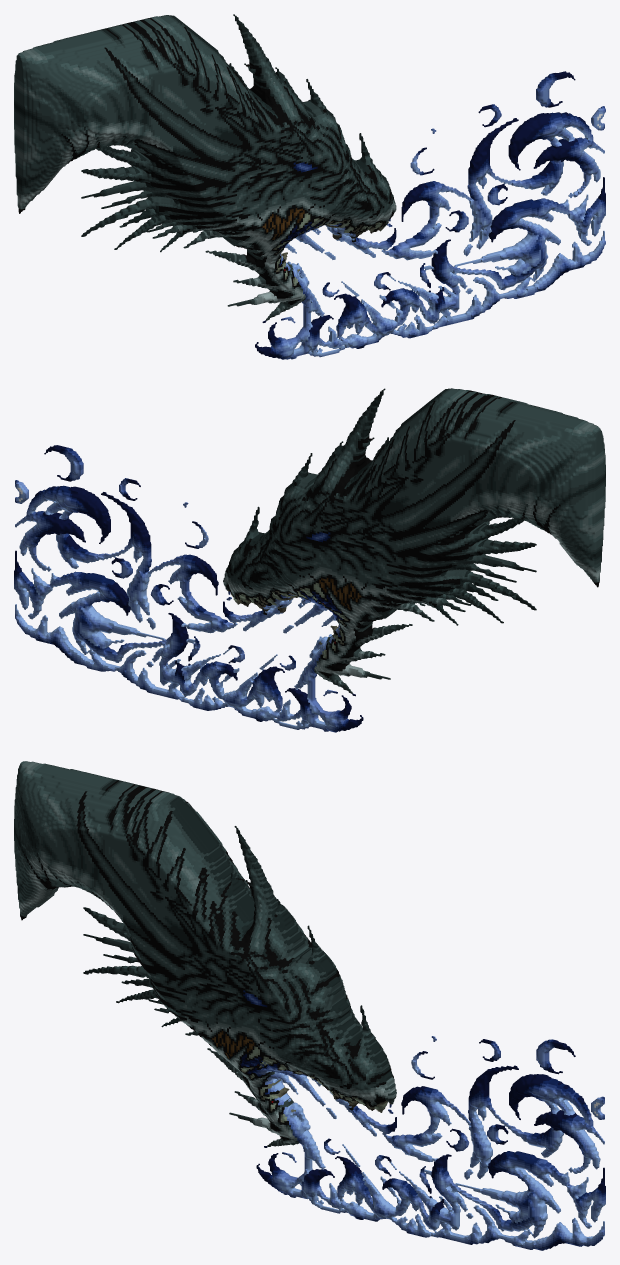
Rendered from Fight_760_2_07.obj.
3 renders of one model, top to bottom at view 1: azimuth 30°, elevation 25°; view 2: azimuth 150°, elevation 25°; view 3: azimuth 330°, elevation 25°, orthographic.
Size of the model in its own units: 32 by 19.7 by 4.4.
1 material, 1 textured.
